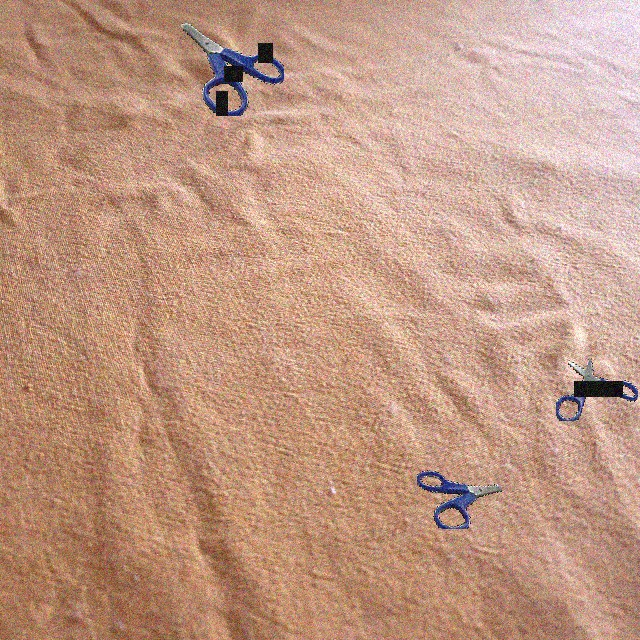scissors: (181, 23, 284, 116), (556, 358, 638, 421), (417, 470, 502, 529)
